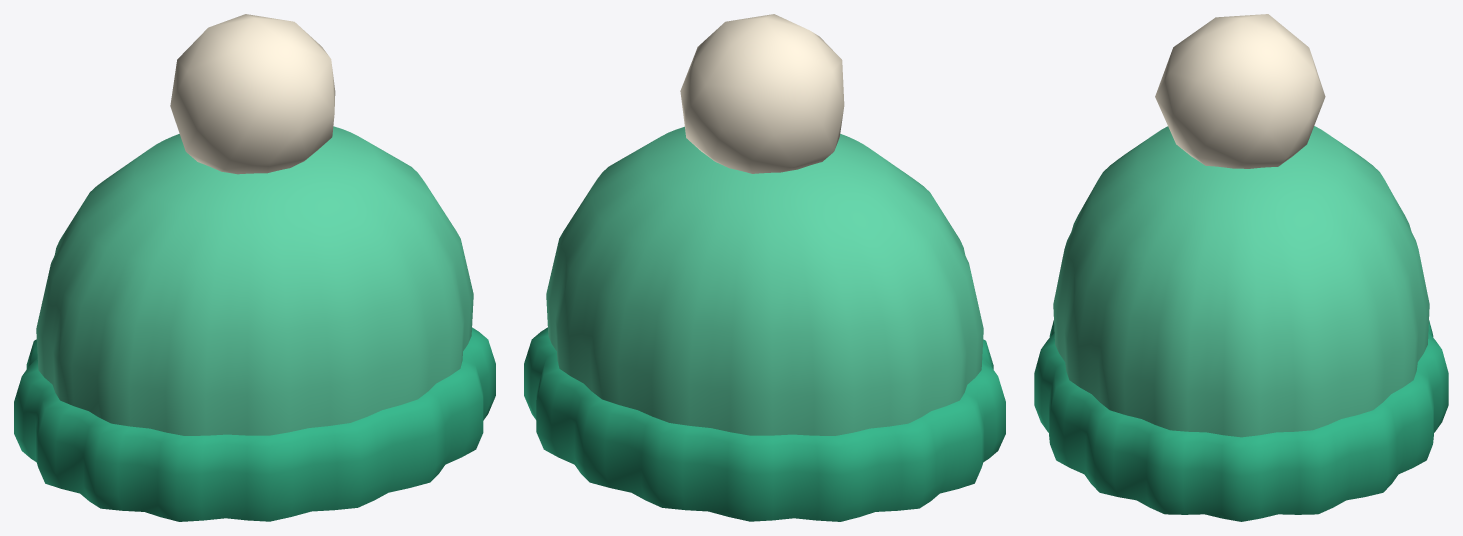
The model's file is beanie.glb.
The picture shows the model from 3 angles, left to right: view 1: azimuth 30°, elevation 25°; view 2: azimuth 150°, elevation 25°; view 3: azimuth 270°, elevation 25°; orthographic projection. The views are drawn at different scales.
Parts seen in each view (by area): view 1: beanie; view 2: beanie; view 3: beanie.
Boxes of the visible parts, x1=… form: beanie: x1=14, y1=14, x2=495, y2=521; beanie: x1=524, y1=14, x2=1005, y2=521; beanie: x1=1034, y1=14, x2=1448, y2=521.
Bounding box in the file's own units: 0.6386 × 0.5831 × 0.5428.
